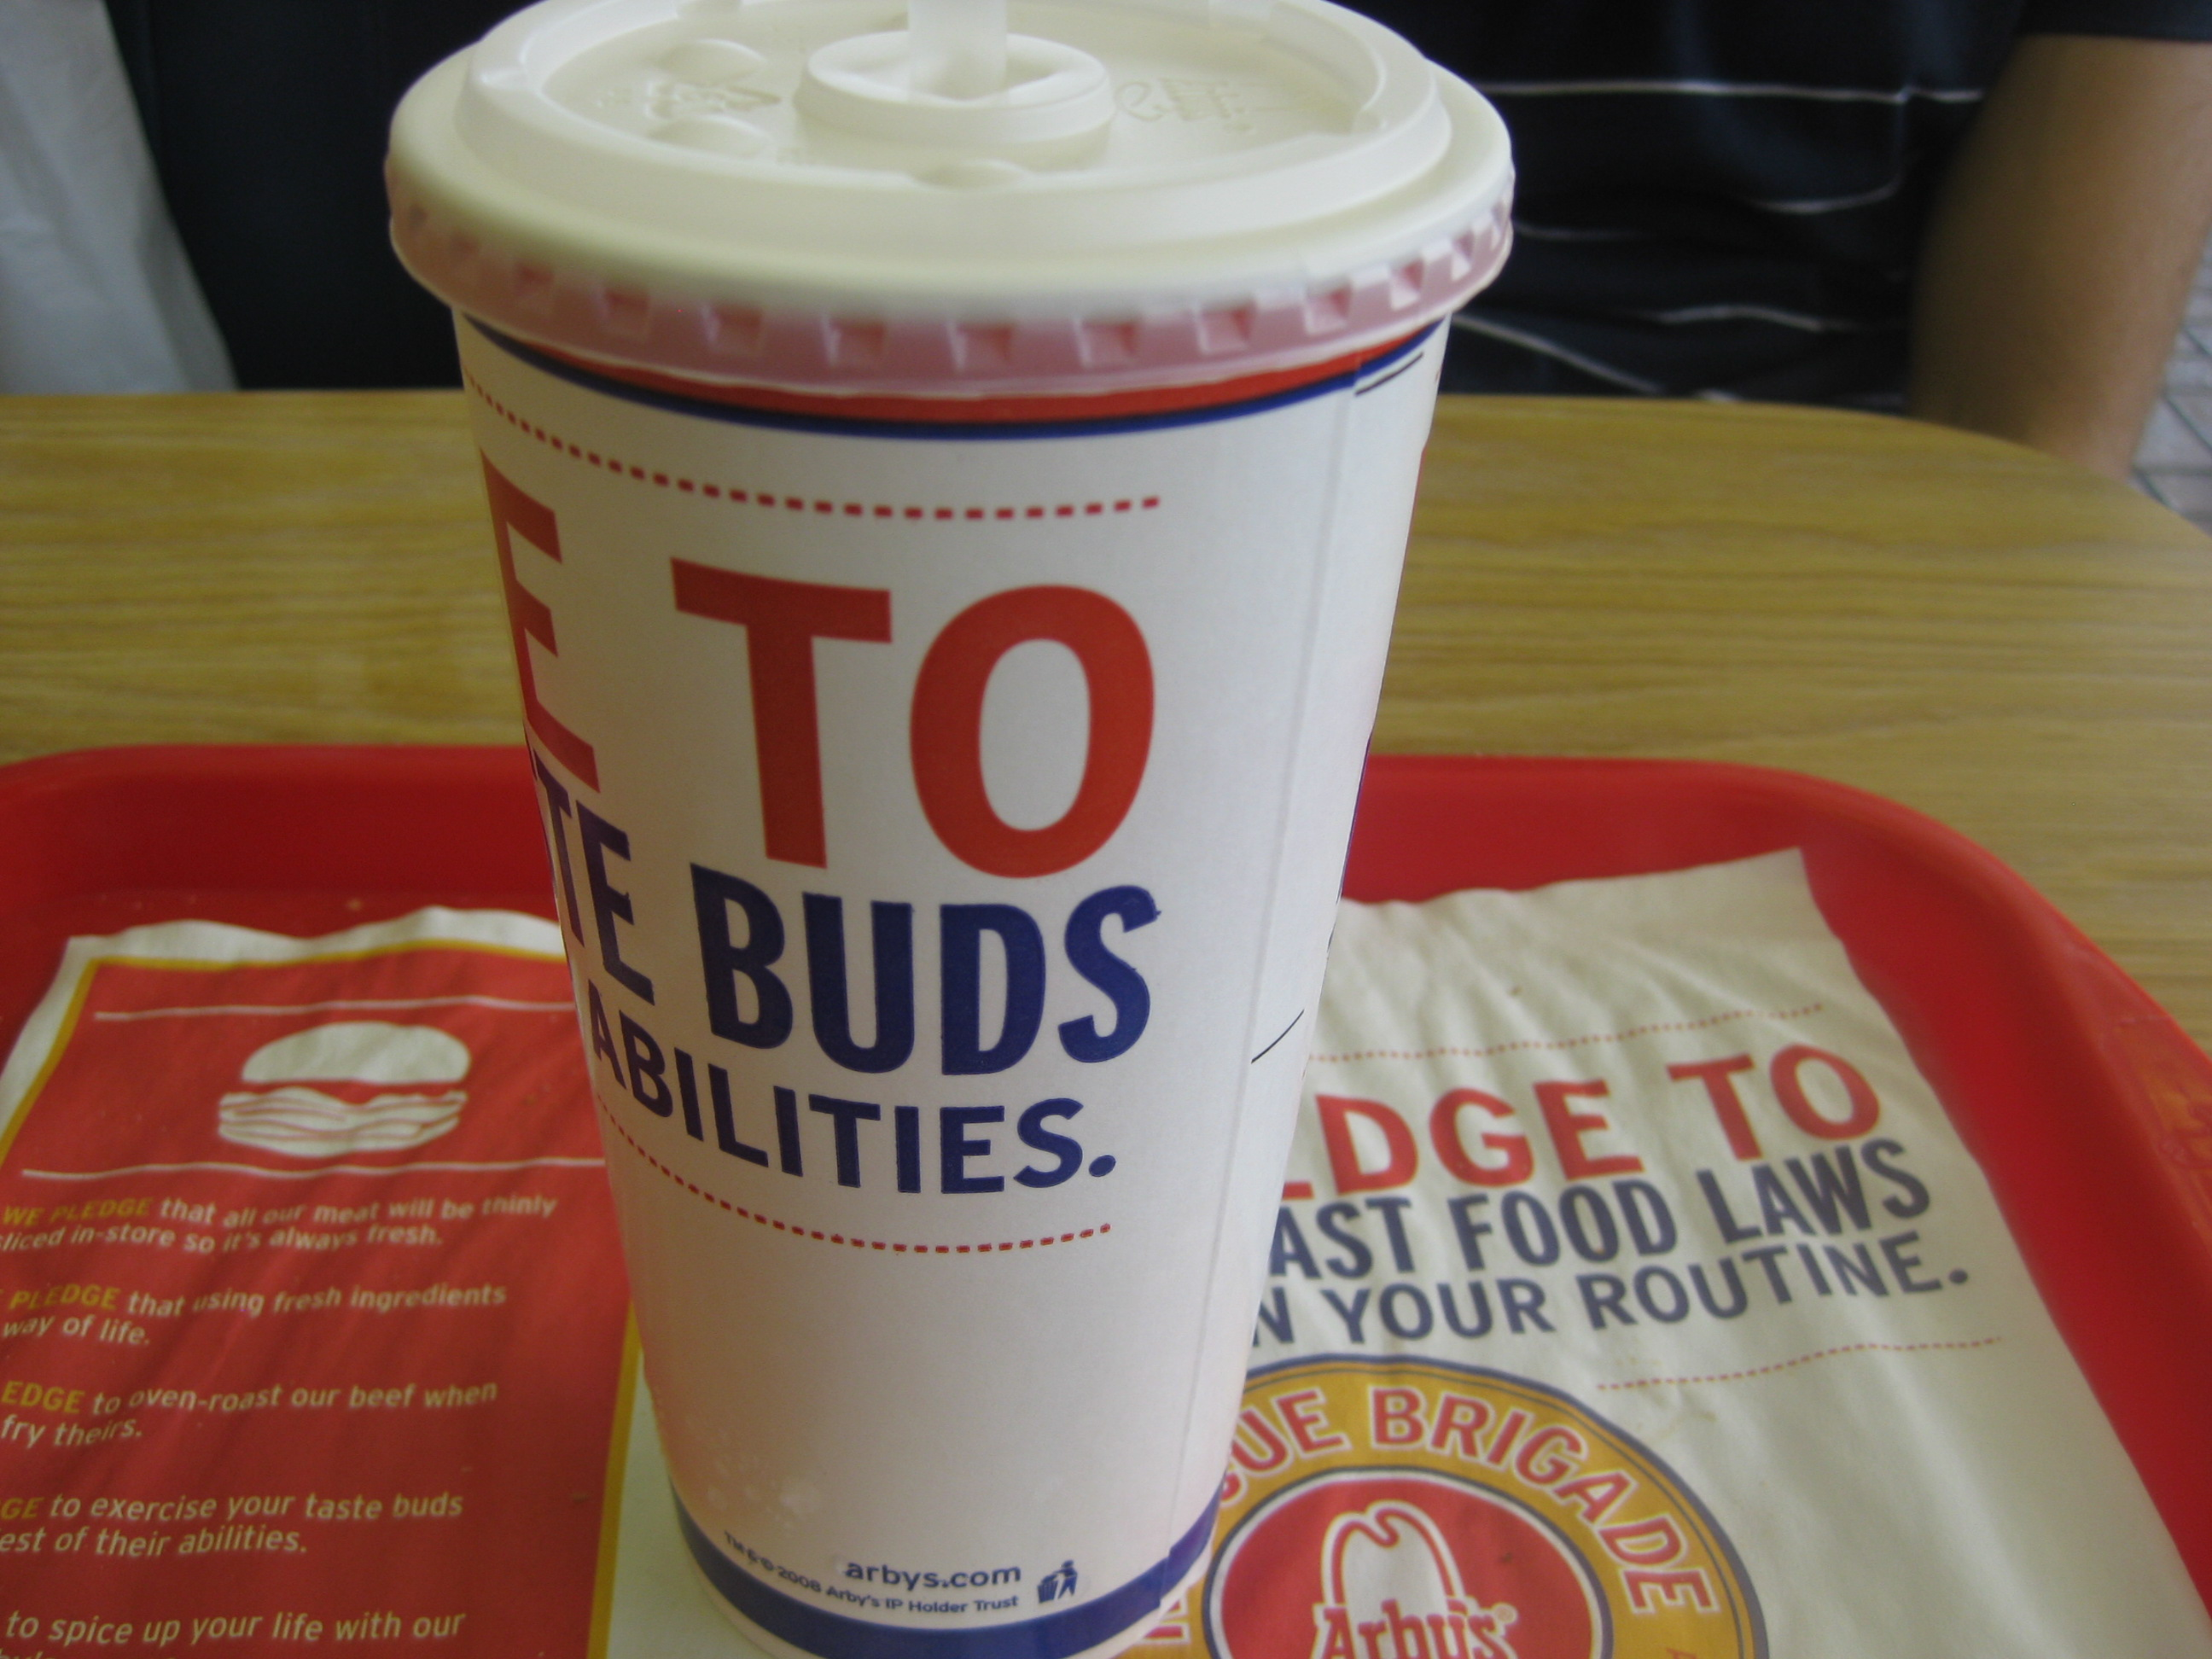drink: (341, 6, 1608, 1655)
